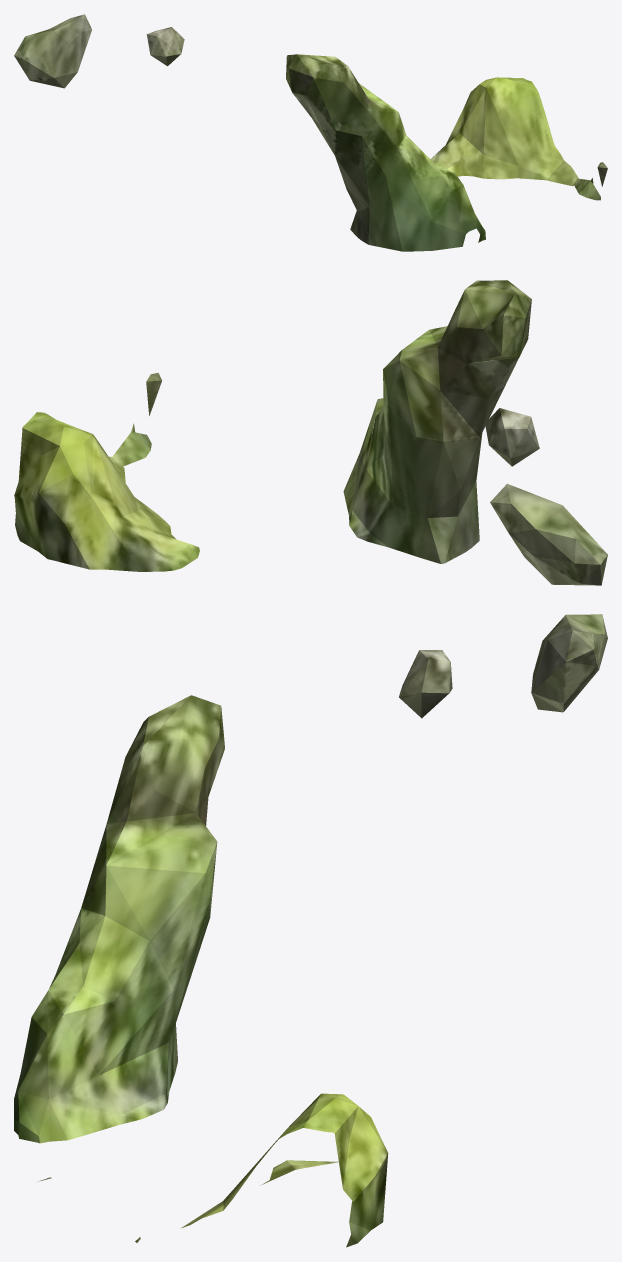
3 views of the same model, one above another, from view 1: azimuth 30°, elevation 25°; view 2: azimuth 150°, elevation 25°; view 3: azimuth 270°, elevation 25° (orthographic). The views are drawn at different scales.
Size of the model in its own units: 2.38 by 0.9589 by 1.6.
1 material, 1 textured.
